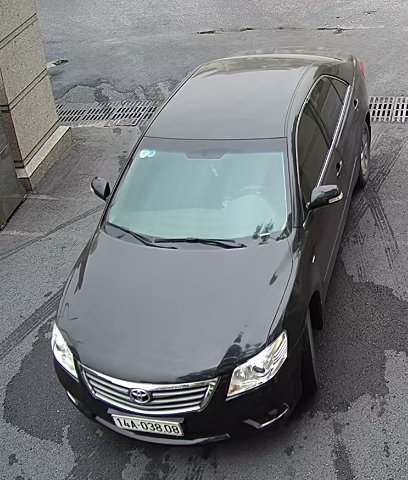vehicle plate: (105, 409, 190, 442)
